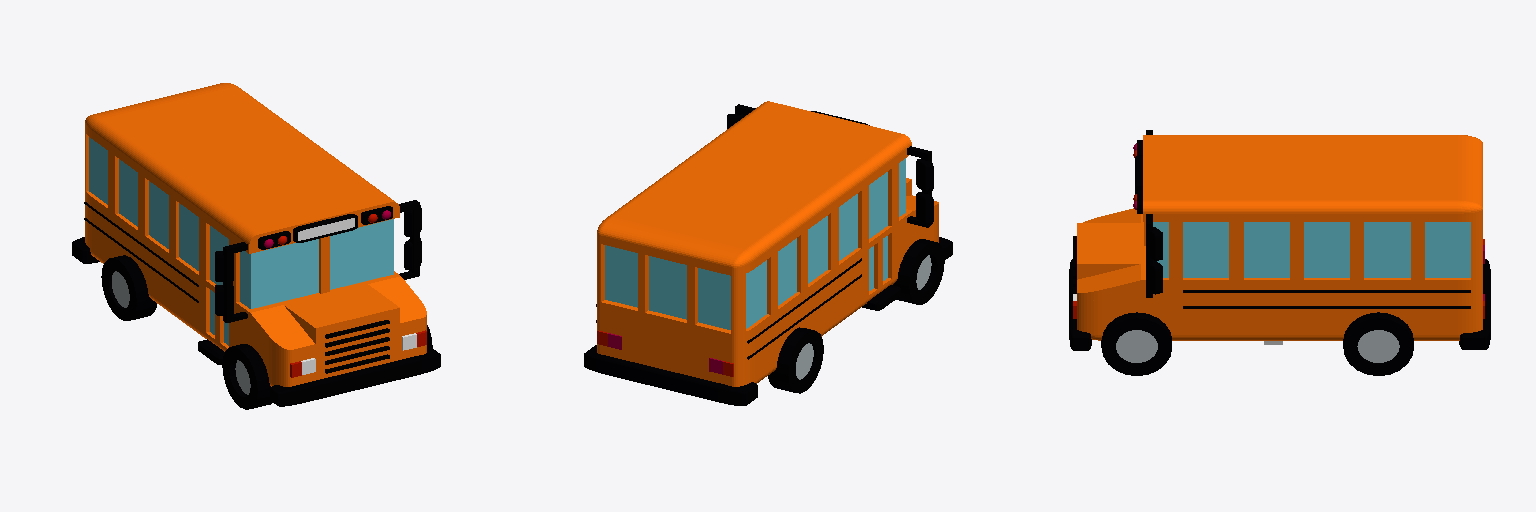
Rendered from buss.obj.
The picture shows the model from 3 angles: view 1: azimuth 30°, elevation 25°; view 2: azimuth 150°, elevation 25°; view 3: azimuth 270°, elevation 25°; orthographic projection.
Parts seen in each view (by area): view 1: obj_0; view 2: obj_0; view 3: obj_0.
Part boxes in pixels (bbox=[...]): obj_0: bbox=[72, 83, 440, 409]; obj_0: bbox=[584, 101, 952, 405]; obj_0: bbox=[1069, 130, 1490, 375].
Bounding box in the file's own units: 24.98 × 20.34 × 44.12.